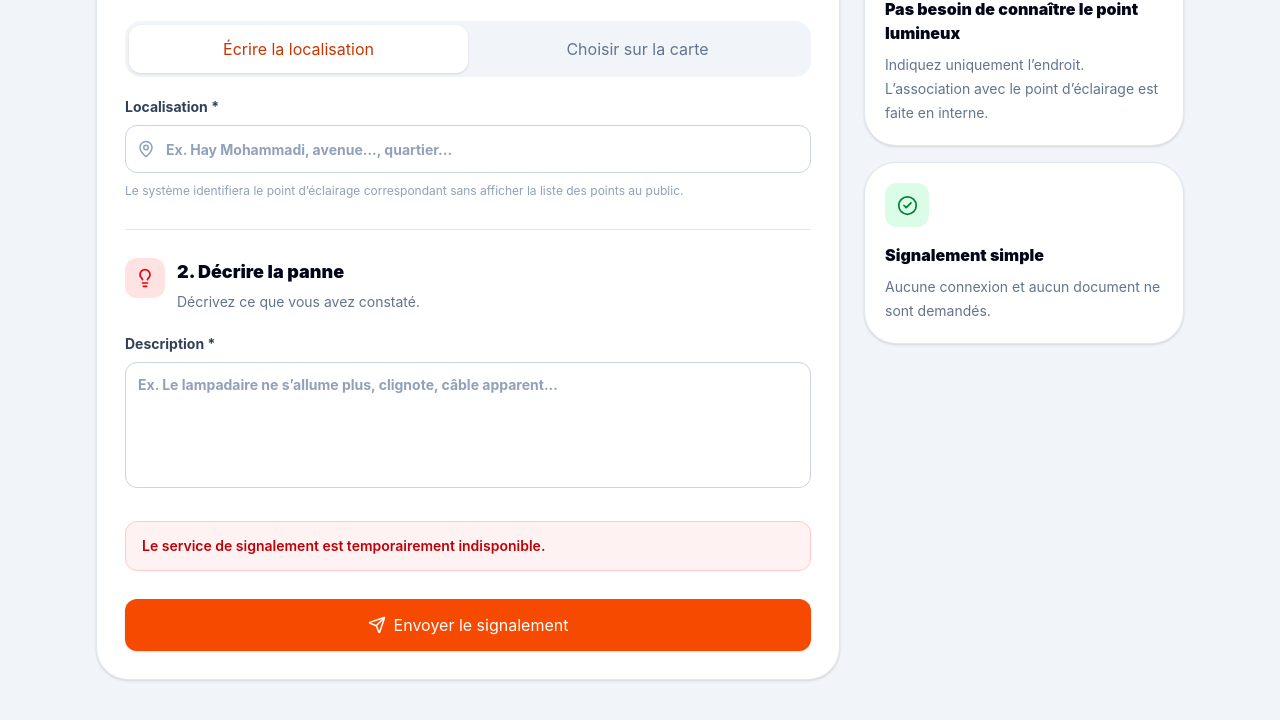
it: FT-WEB-01/02 — Public + Auth › validation du formulaire public vide
(page scrolled)
What coordinates should you click on to do the following:
click the submit button
I would click on:
 (468, 625)
Its box is top-left (125, 599), bottom-right (811, 651).
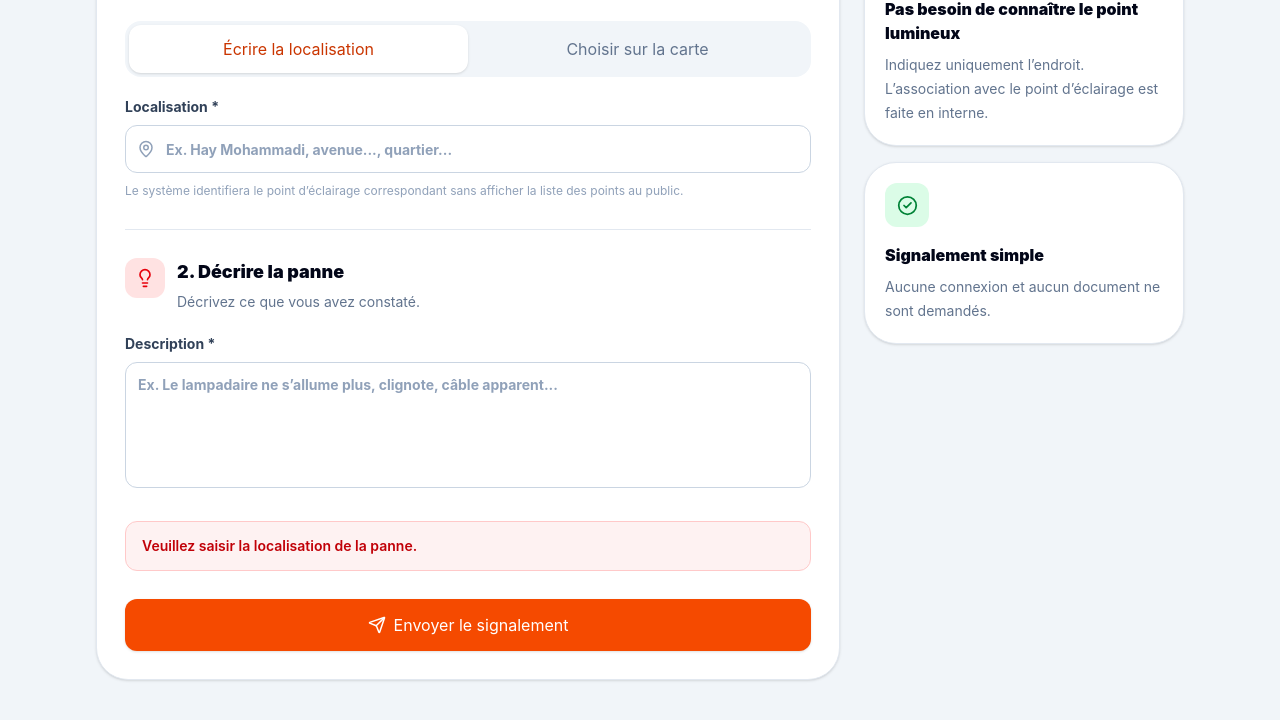
Expected: the text "Veuillez saisir la localisation de la panne." is shown, top-left (125, 521), bottom-right (811, 571)
